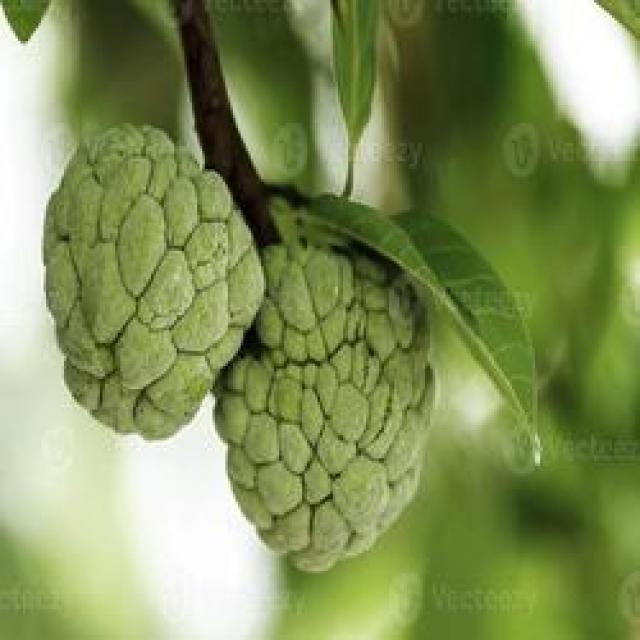custard_apple: (233, 210, 448, 568), (41, 118, 261, 438)
